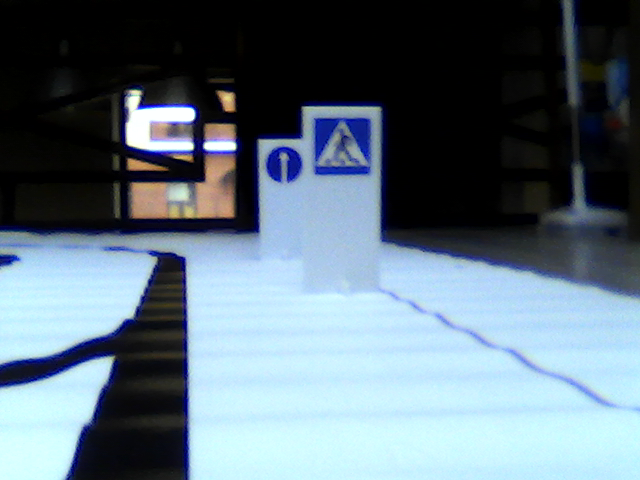forw: (263, 144, 302, 183)
pesh: (313, 115, 374, 177)
